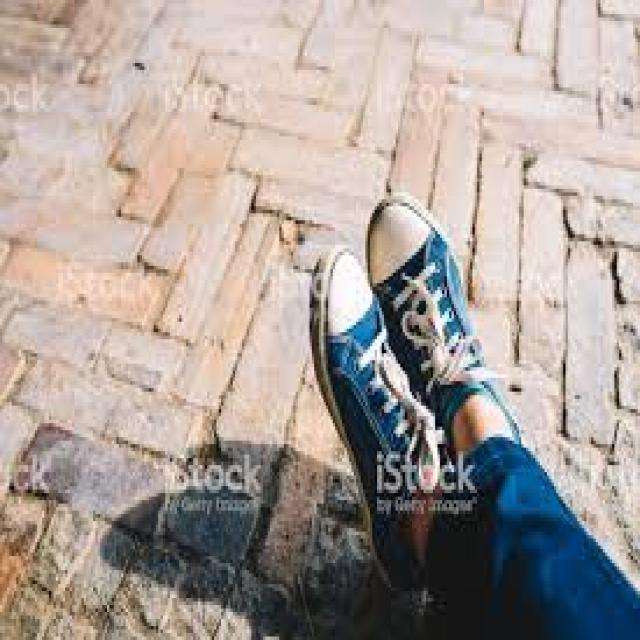shoe: (297, 249, 469, 580), (368, 185, 529, 468)
